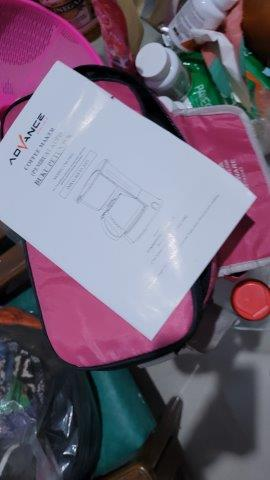kertas: (1, 58, 257, 340)
